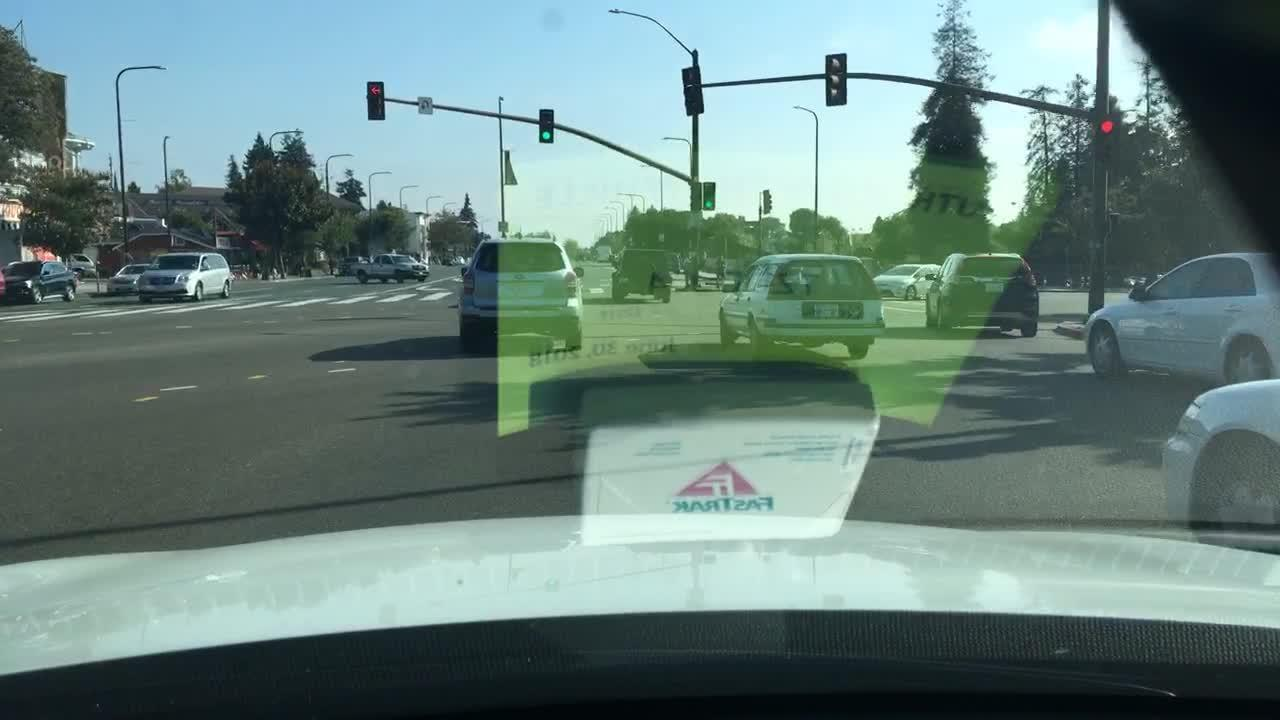subaru: (509, 271, 534, 282)
